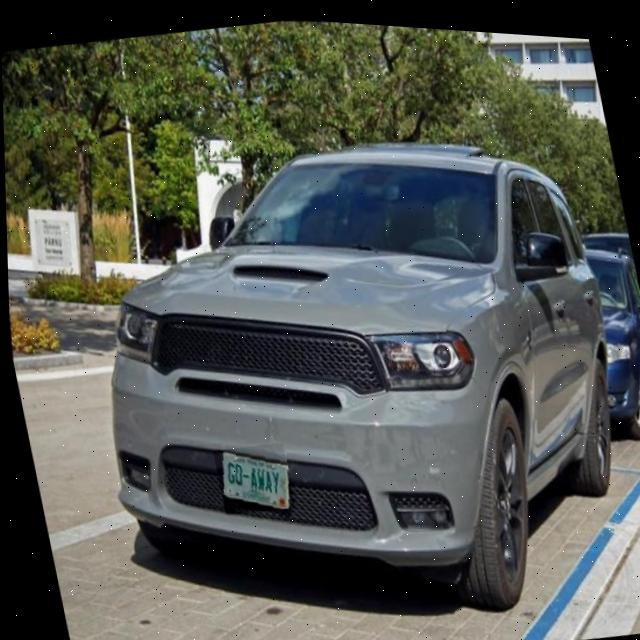LicensePlate: (219, 446, 284, 504)
